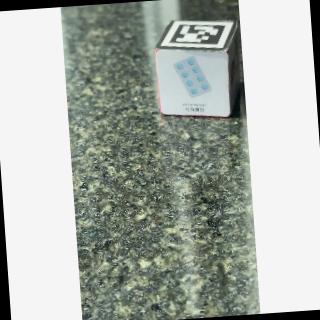Tablet: (155, 51, 232, 119)
